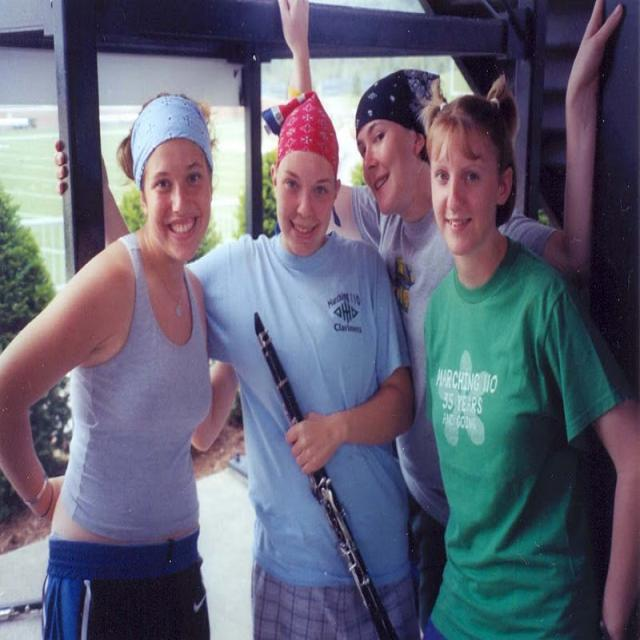clarinet: (251, 307, 400, 640)
